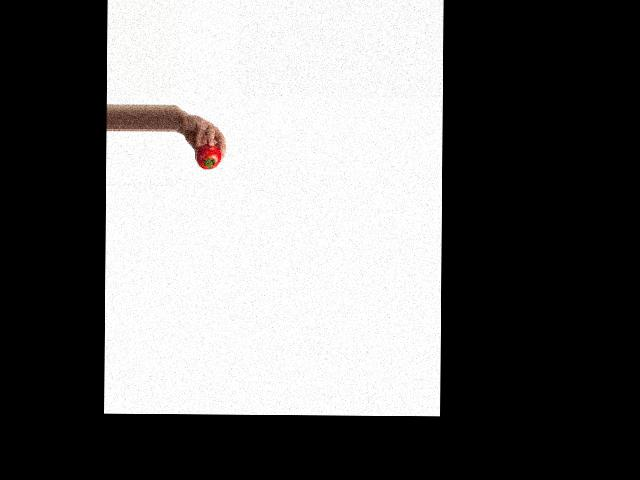tomato: (195, 144, 221, 169)
